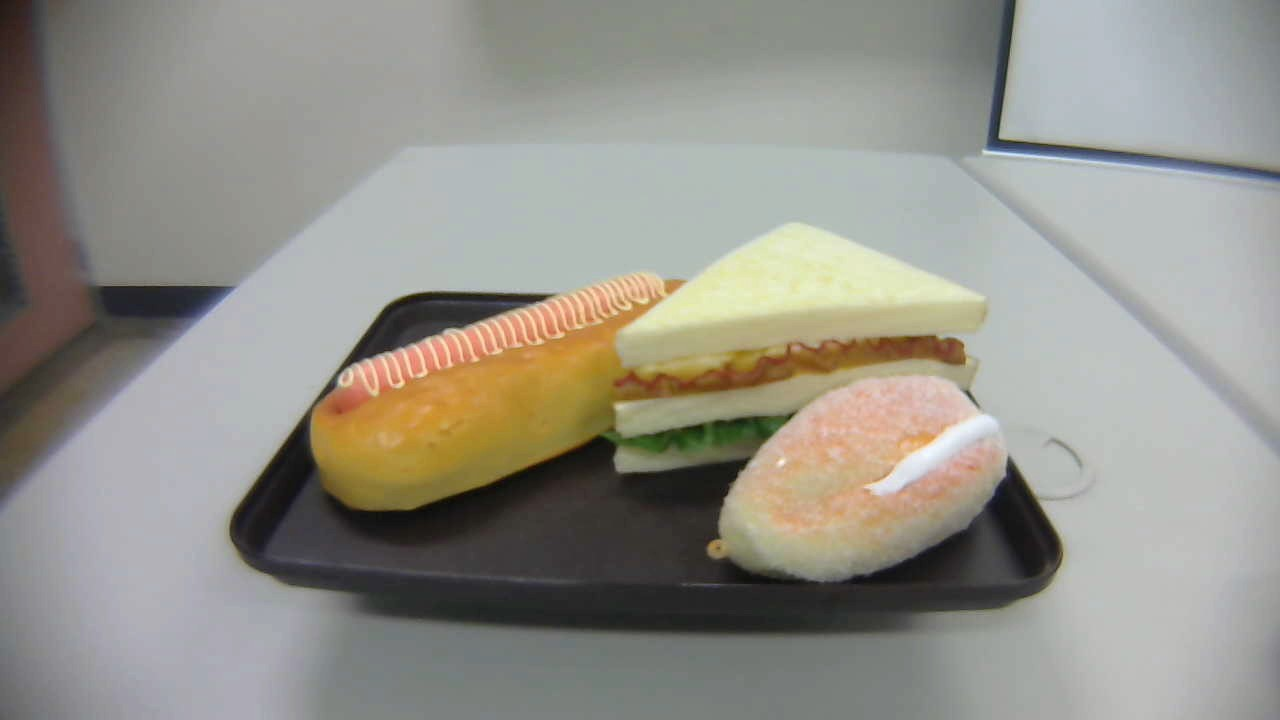coconut: (707, 372, 1009, 585)
hot dog: (309, 273, 701, 513)
sandwich: (617, 223, 988, 469)
